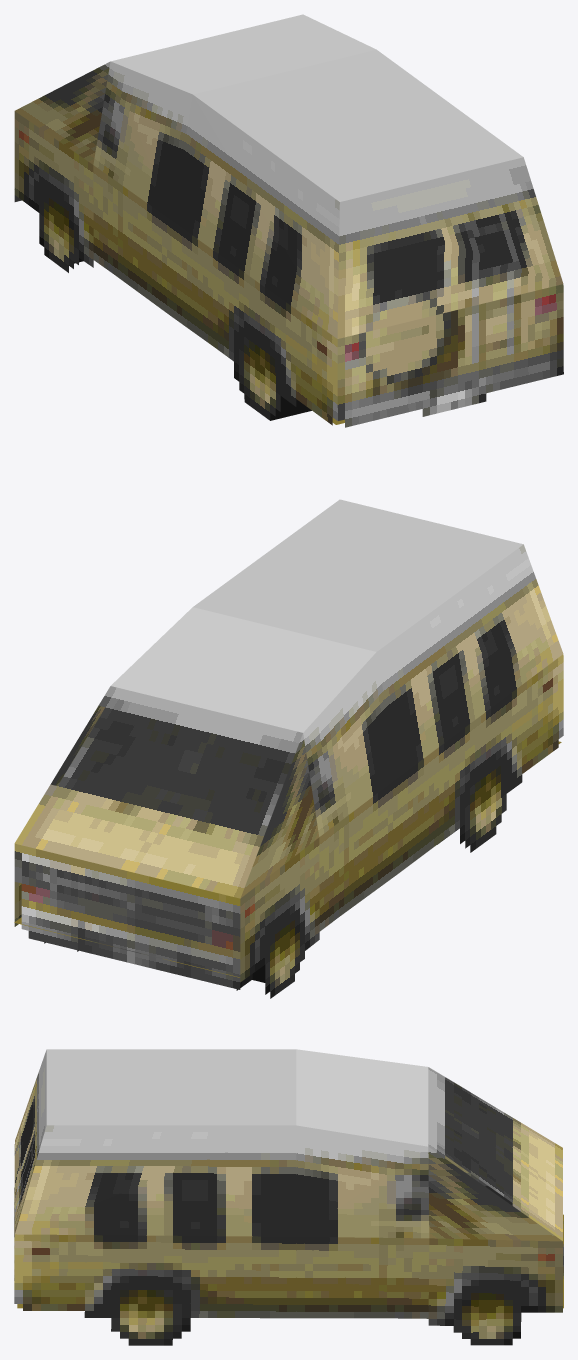
The model's file is car-vandura-plt3.glb.
The picture shows the model from 3 angles, top to bottom: view 1: azimuth 30°, elevation 25°; view 2: azimuth 150°, elevation 25°; view 3: azimuth 270°, elevation 25°; orthographic projection. The views are drawn at different scales.
Visible parts, largest first — view 1: car-vandura-plt3; view 2: car-vandura-plt3; view 3: car-vandura-plt3.
Boxes of the visible parts, bbox=[...] form: car-vandura-plt3: bbox=[14, 14, 563, 427]; car-vandura-plt3: bbox=[14, 499, 563, 998]; car-vandura-plt3: bbox=[14, 1049, 563, 1345].
Bounding box in the file's own units: 2.02 × 2.12 × 5.01.
16 materials, 16 textured.
